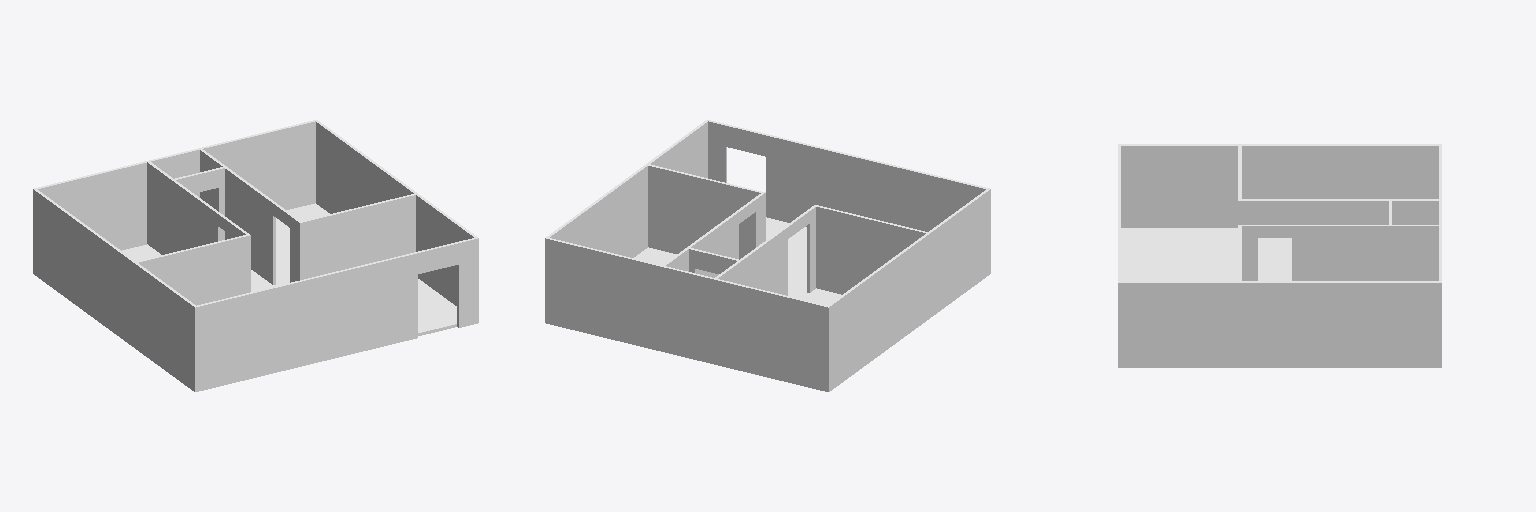
File: house_heya.obj
3 views of the same model, side by side, from view 1: azimuth 30°, elevation 25°; view 2: azimuth 150°, elevation 25°; view 3: azimuth 270°, elevation 25° (orthographic).
Bounding box in the file's own units: 98 × 28 × 97.